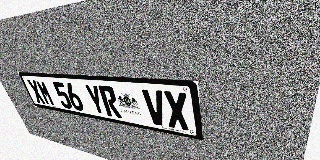5: (52, 82, 74, 109)
6: (63, 82, 85, 112)
M: (35, 80, 56, 106)
R: (98, 85, 122, 118)
V: (142, 89, 168, 127)
X: (163, 91, 190, 131), (26, 79, 46, 104)
Y: (84, 84, 107, 116)
